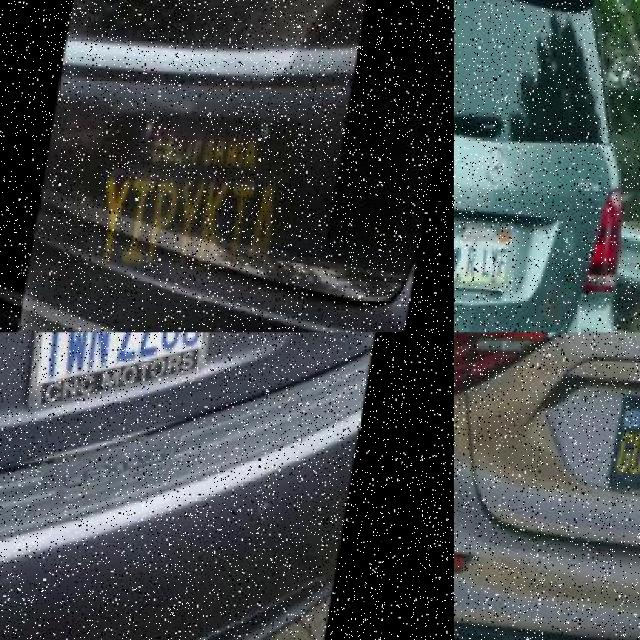licenseplate: (84, 104, 307, 290), (35, 332, 212, 412), (454, 212, 521, 297), (611, 386, 640, 511)
